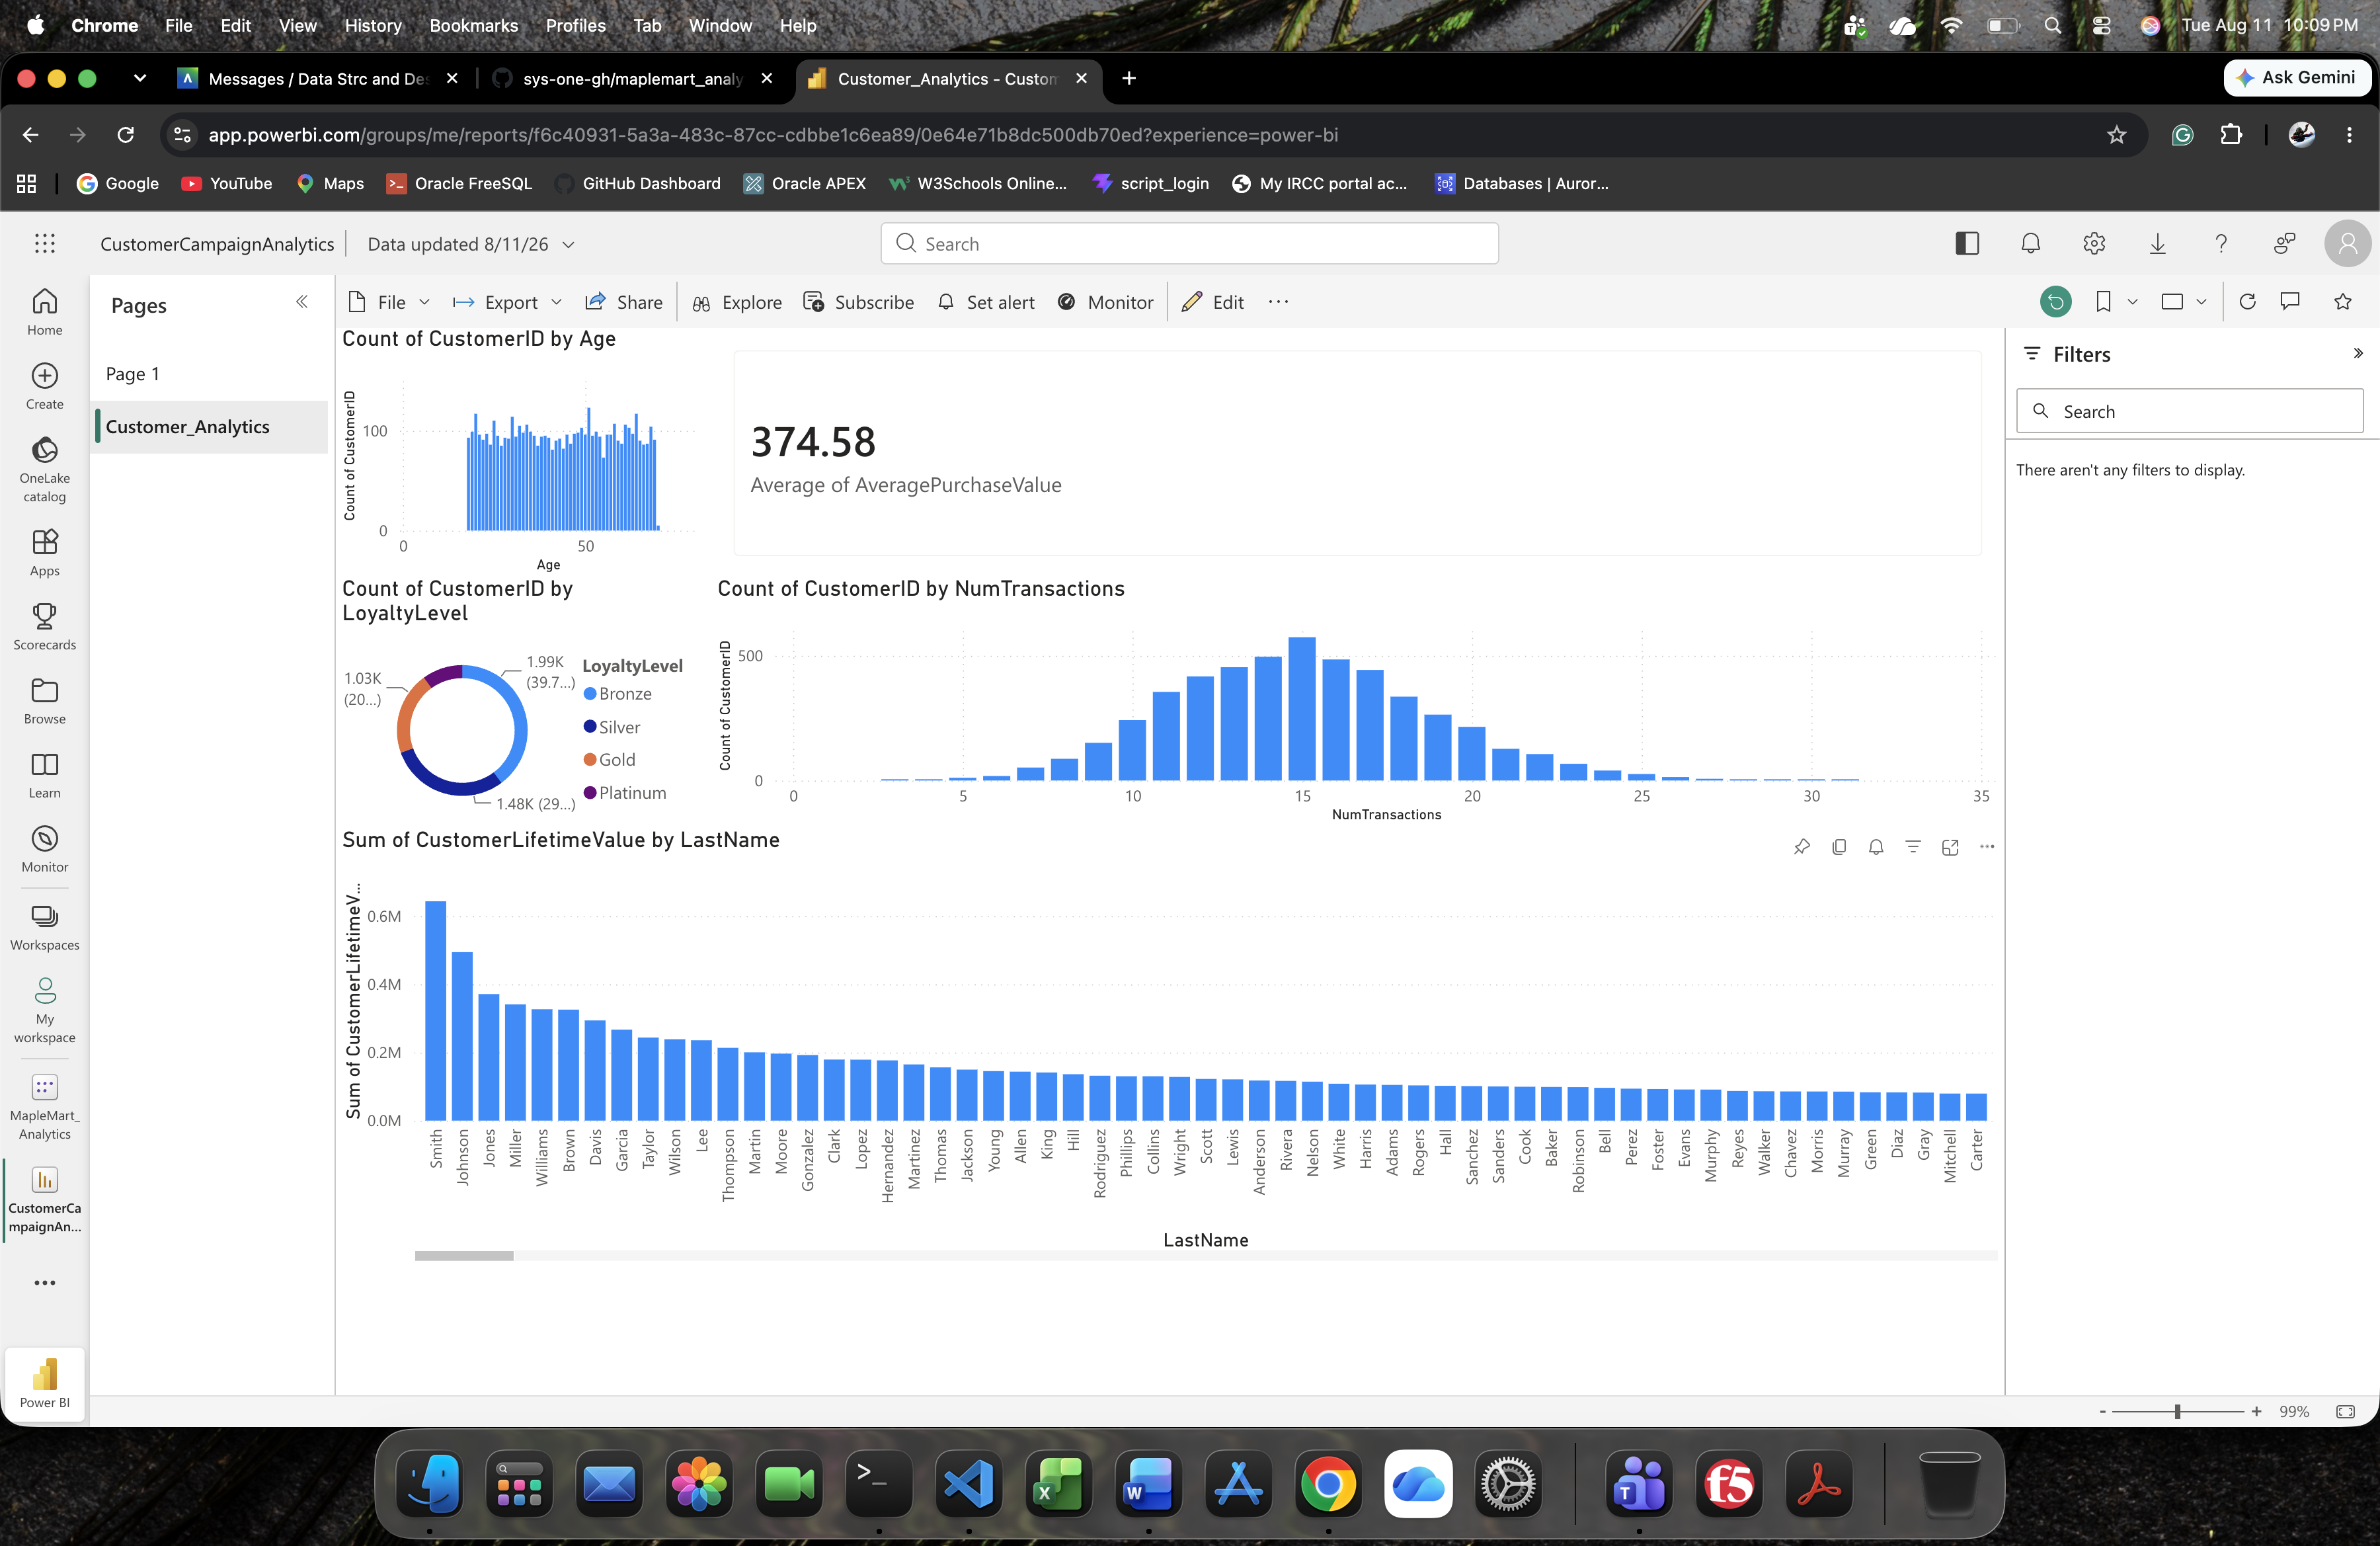

This screenshot's page, from the dashboard's own definition file:
{"tool":"powerbi","page":{"name":"Customer_Analytics","canvas":[1280,720],"ordinal":1},"visuals":[{"type":"clusteredColumnChart","fields":{"Category":["vwCustomerAnalytics.Age"],"Y":["CountNonNull(vwCustomerAnalytics.CustomerID)"]},"box":[0,0,288,192],"z":0},{"type":"donutChart","fields":{"Category":["vwCustomerAnalytics.LoyaltyLevel"],"Y":["CountNonNull(vwCustomerAnalytics.CustomerID)"]},"box":[0,192,288,192],"z":1000},{"type":"columnChart","fields":{"Category":["vwCustomerLifetimeValue.LastName"],"Y":["Sum(vwCustomerLifetimeValue.CustomerLifetimeValue)"]},"box":[0,384,1280,336],"z":2000},{"type":"cardVisual","fields":{"Data":["Avg(vwCustomerAnalytics.AveragePurchaseValue)"]},"box":[288,0,992,192],"z":3000},{"type":"clusteredColumnChart","fields":{"Category":["vwCustomerAnalytics.NumTransactions"],"Y":["CountNonNull(vwCustomerAnalytics.CustomerID)"]},"box":[288,192,992,192],"z":4000}]}

Visuals, with their boxes on the page's 1280x720 design canvas (x1, y1, x2, y2). These are canvas units, not pixel positions in the 2380x1546 screenshot, which may show the page scaled, cropped or inside an application window:
clusteredColumnChart - vwCustomerAnalytics.Age x CountNonNull(vwCustomerAnalytics.CustomerID): 0, 0, 288, 192
donutChart - vwCustomerAnalytics.LoyaltyLevel x CountNonNull(vwCustomerAnalytics.CustomerID): 0, 192, 288, 384
columnChart - vwCustomerLifetimeValue.LastName x Sum(vwCustomerLifetimeValue.CustomerLifetimeValue): 0, 384, 1280, 720
cardVisual - Avg(vwCustomerAnalytics.AveragePurchaseValue): 288, 0, 1280, 192
clusteredColumnChart - vwCustomerAnalytics.NumTransactions x CountNonNull(vwCustomerAnalytics.CustomerID): 288, 192, 1280, 384
